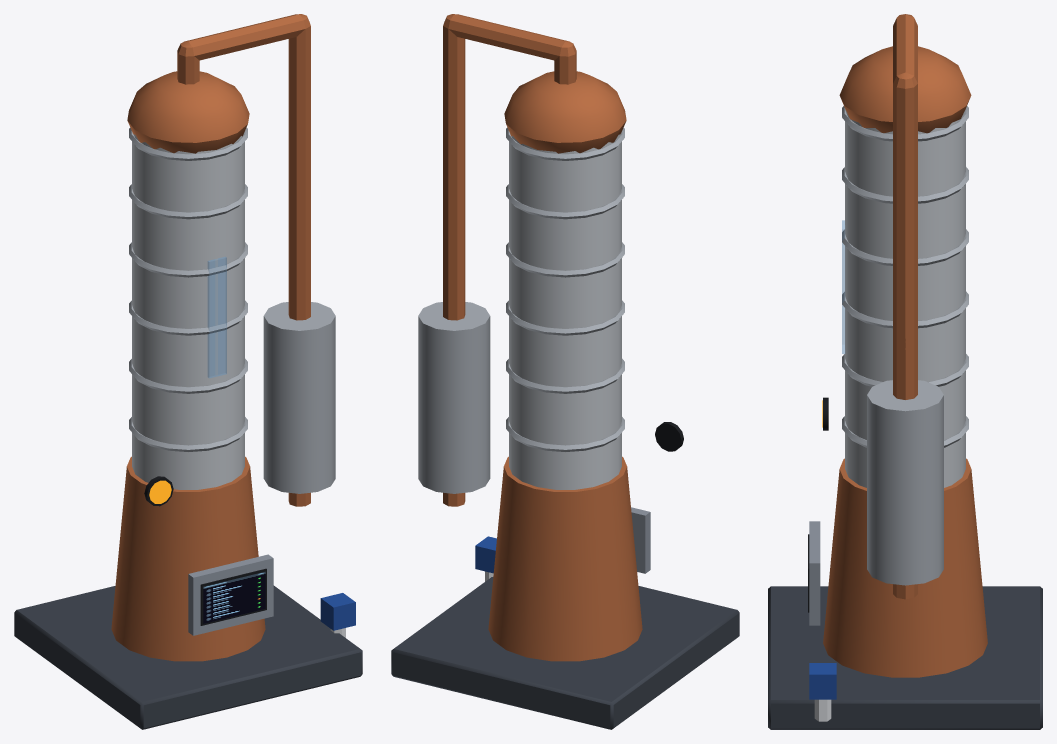
The model's file is watertank_distillation_column.glb.
The picture shows the model from 3 angles, left to right: view 1: azimuth 30°, elevation 25°; view 2: azimuth 150°, elevation 25°; view 3: azimuth 270°, elevation 25°; orthographic projection. The views are drawn at different scales.
Visible parts, largest first — view 1: watertank_distillation_column; view 2: watertank_distillation_column; view 3: watertank_distillation_column.
Part boxes in pixels (<box>): watertank_distillation_column: <box>14,14,362,729</box>; watertank_distillation_column: <box>391,14,739,729</box>; watertank_distillation_column: <box>768,14,1042,729</box>.
Size of the model in its own units: 1.14 by 2.64 by 1.
11 materials, 1 textured.
